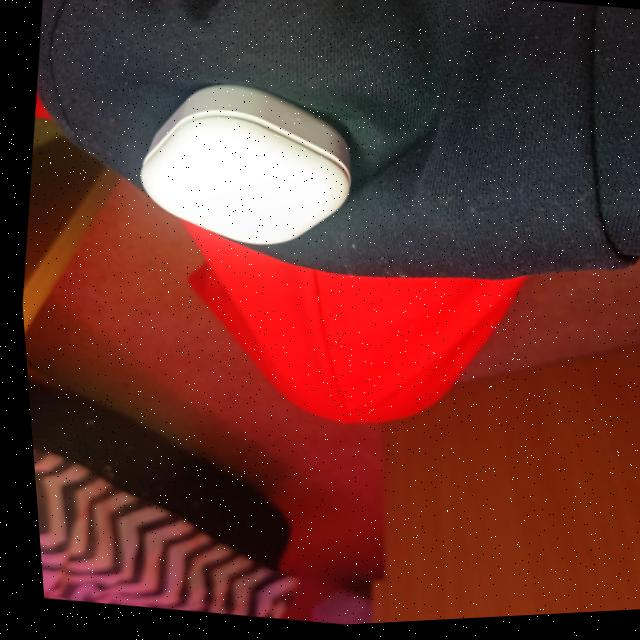headphones: (137, 87, 347, 246)
